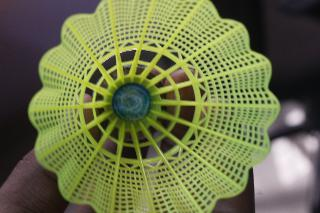shuttlecock: (28, 1, 280, 211)
